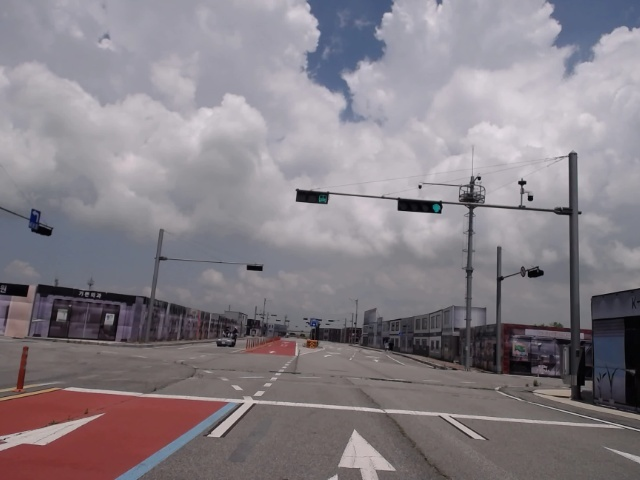straight_green_4: (394, 199, 445, 212)
